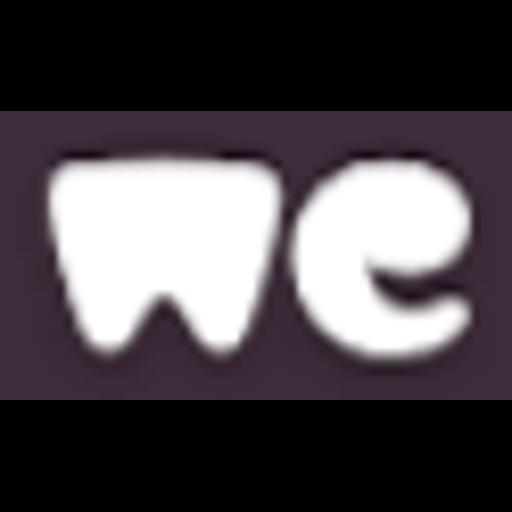WeTransfer: (0, 111, 512, 400)
